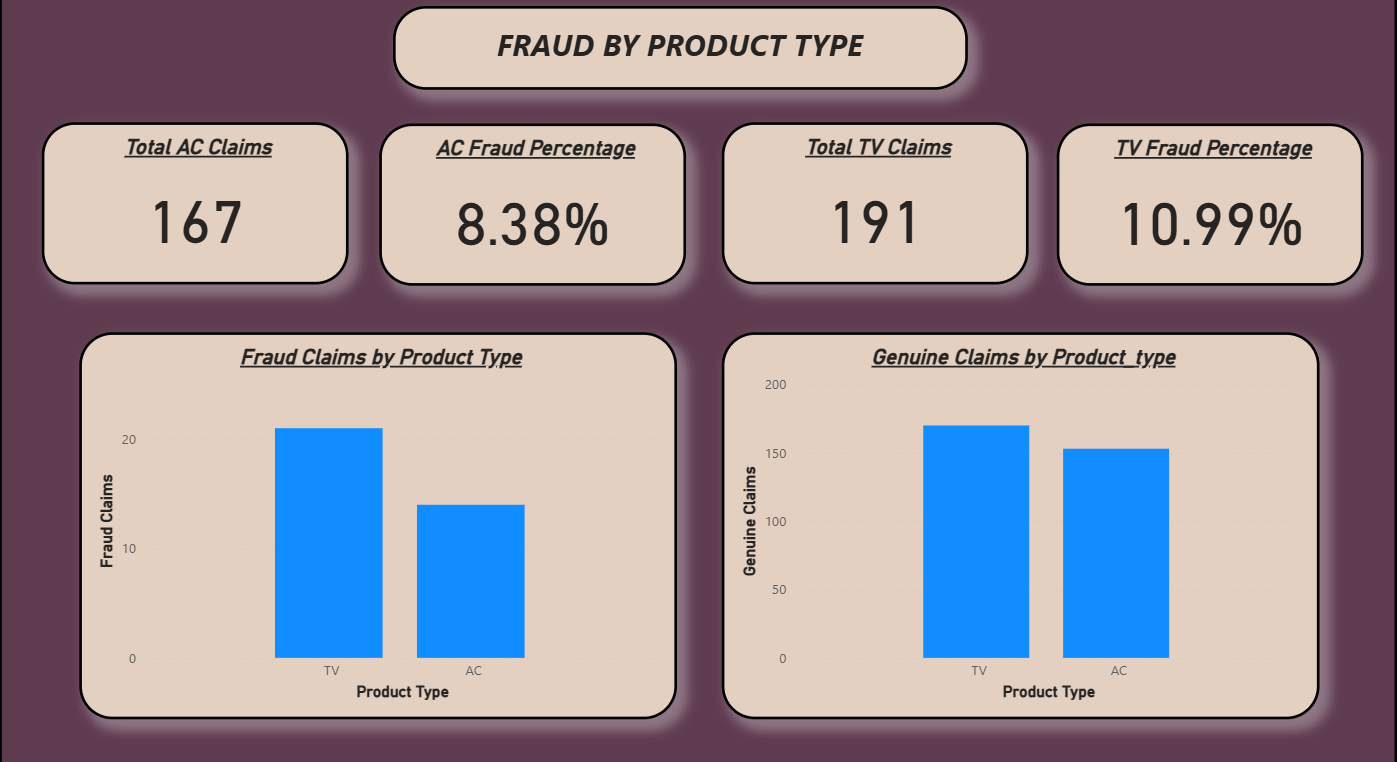

The dashboard page shown, as its layout file describes it:
{"tool":"powerbi","page":{"name":"Fraud by Product Type","canvas":[1280,720],"ordinal":2},"visuals":[{"type":"card","title":"AC Fraud Percentage","fields":{"Values":["warranty claims.fraud%_ac"]},"box":[350,120.1,278.8,146.8],"z":0},{"type":"card","title":"TV Fraud Percentage","fields":{"Values":["warranty claims.fraud%_tv"]},"box":[965.4,120.1,278.8,146.8],"z":1000},{"type":"clusteredColumnChart","title":"Fraud Claims by Product Type","fields":{"Category":["warranty claims.Product_type"],"Y":["warranty claims.Fraudulent_Claims"]},"box":[78.6,309.9,542.7,351.4],"z":2000},{"type":"card","title":"Total TV Claims","fields":{"Values":["warranty claims.tv_claims"]},"box":[661.4,118.6,278.8,146.8],"z":3001},{"type":"card","title":"Total AC Claims","fields":{"Values":["warranty claims.ac_claims"]},"box":[44.5,118.6,278.8,146.8],"z":3002},{"type":"clusteredColumnChart","fields":{"Category":["warranty claims.Product_type"],"Y":["warranty claims.Genuine Claims"]},"box":[661.4,309.9,542.7,351.4],"z":3003},{"type":"textbox","box":[363.3,13.3,522,75.6],"z":3004}]}

Visuals, with their boxes in screenshot pixels (x1, y1, x2, y2):
"AC Fraud Percentage" card: locate(385, 122, 686, 281)
"TV Fraud Percentage" card: locate(1050, 122, 1351, 281)
"Fraud Claims by Product Type" clusteredColumnChart: locate(92, 327, 678, 707)
"Total TV Claims" card: locate(721, 121, 1022, 279)
"Total AC Claims" card: locate(55, 121, 356, 279)
clusteredColumnChart - warranty claims.Product_type x warranty claims.Genuine Claims: locate(721, 327, 1307, 707)
textbox: locate(400, 7, 963, 89)
